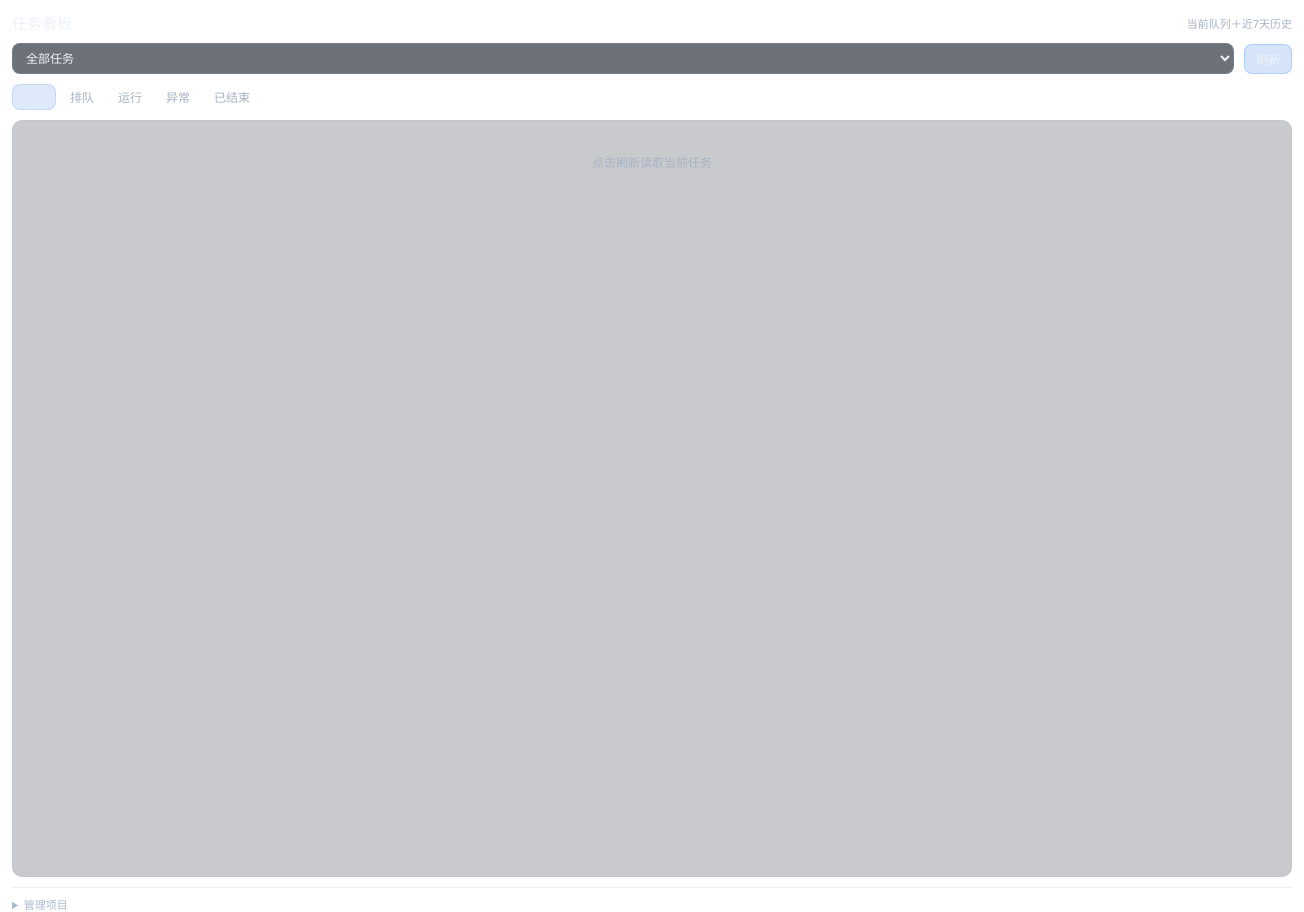
HPC task board › retains the previous successful failed source with its actual stale timestamp
This screenshot has width=1304, height=912.
Click the button "刷新" at (1268,58), box left=1244, top=44, right=1292, bottom=74
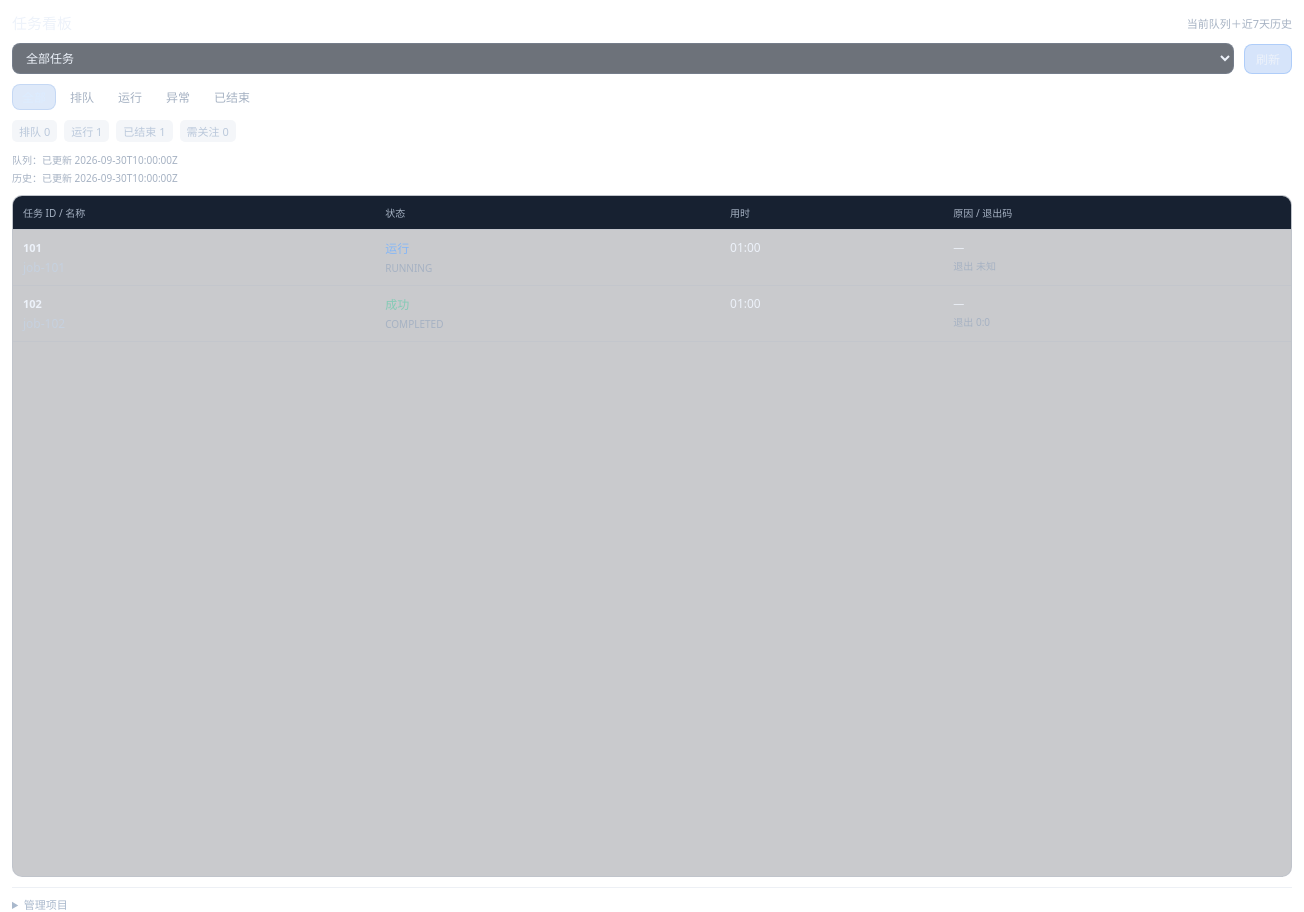
Click the button "刷新" at (1268,58), box left=1244, top=44, right=1292, bottom=74
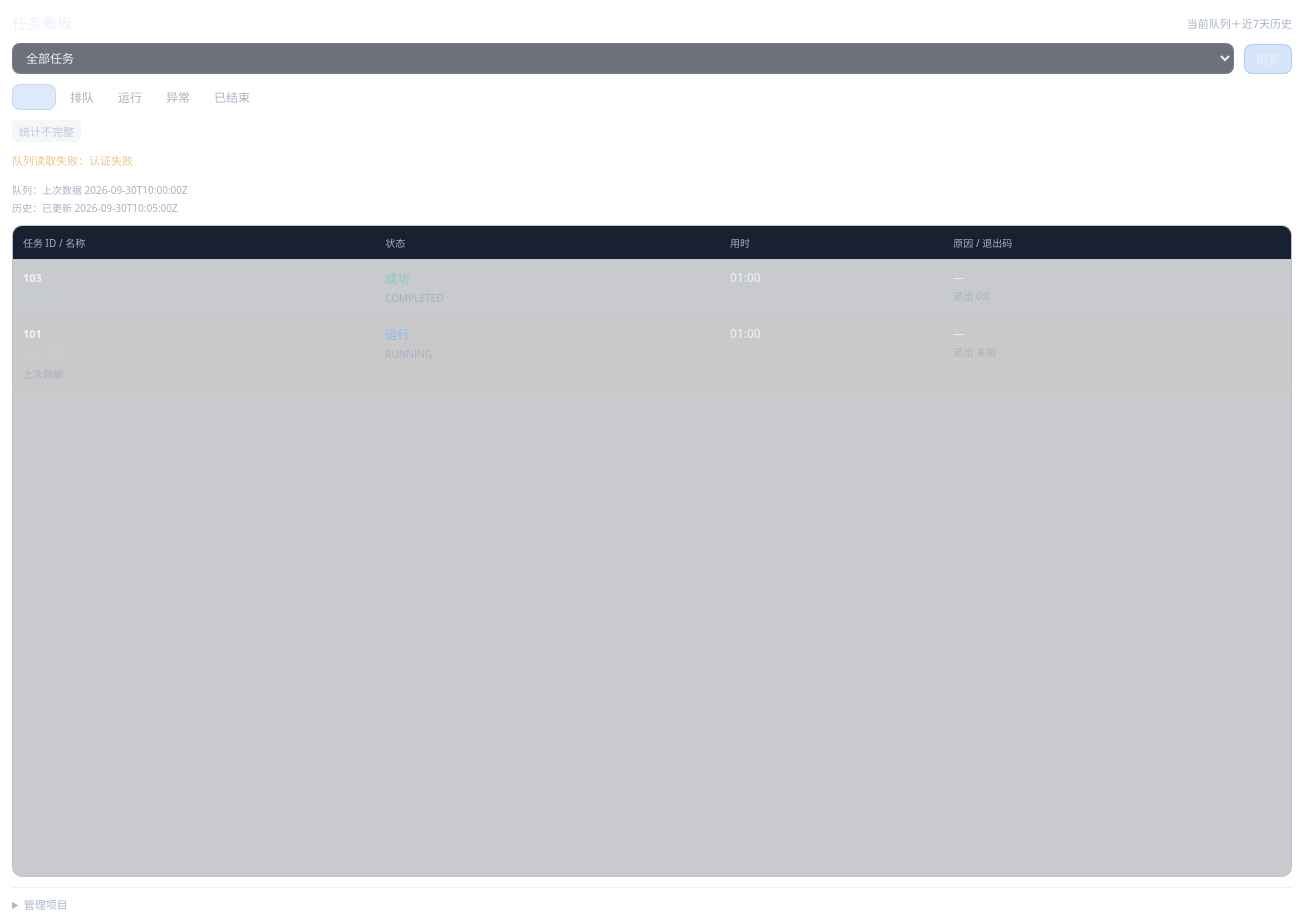
Now the text "队列：上次数据 2026-09-30T10:00:00Z" is shown, box left=12, top=183, right=188, bottom=197
Now the text "队列读取失败：认证失败" is shown, box left=12, top=153, right=133, bottom=168
Now the text "job-102" is gone
